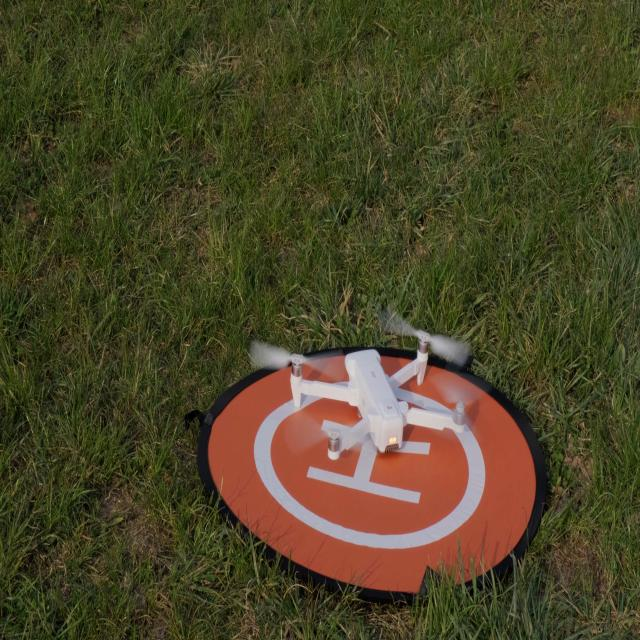drone: (248, 308, 474, 462)
